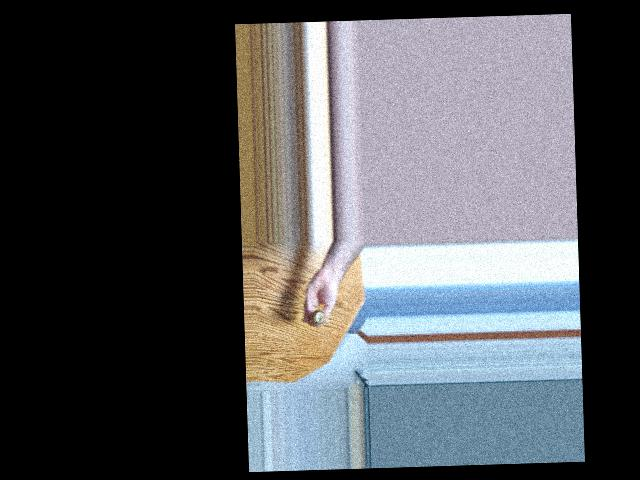sweet_potato: (312, 310, 329, 330)
